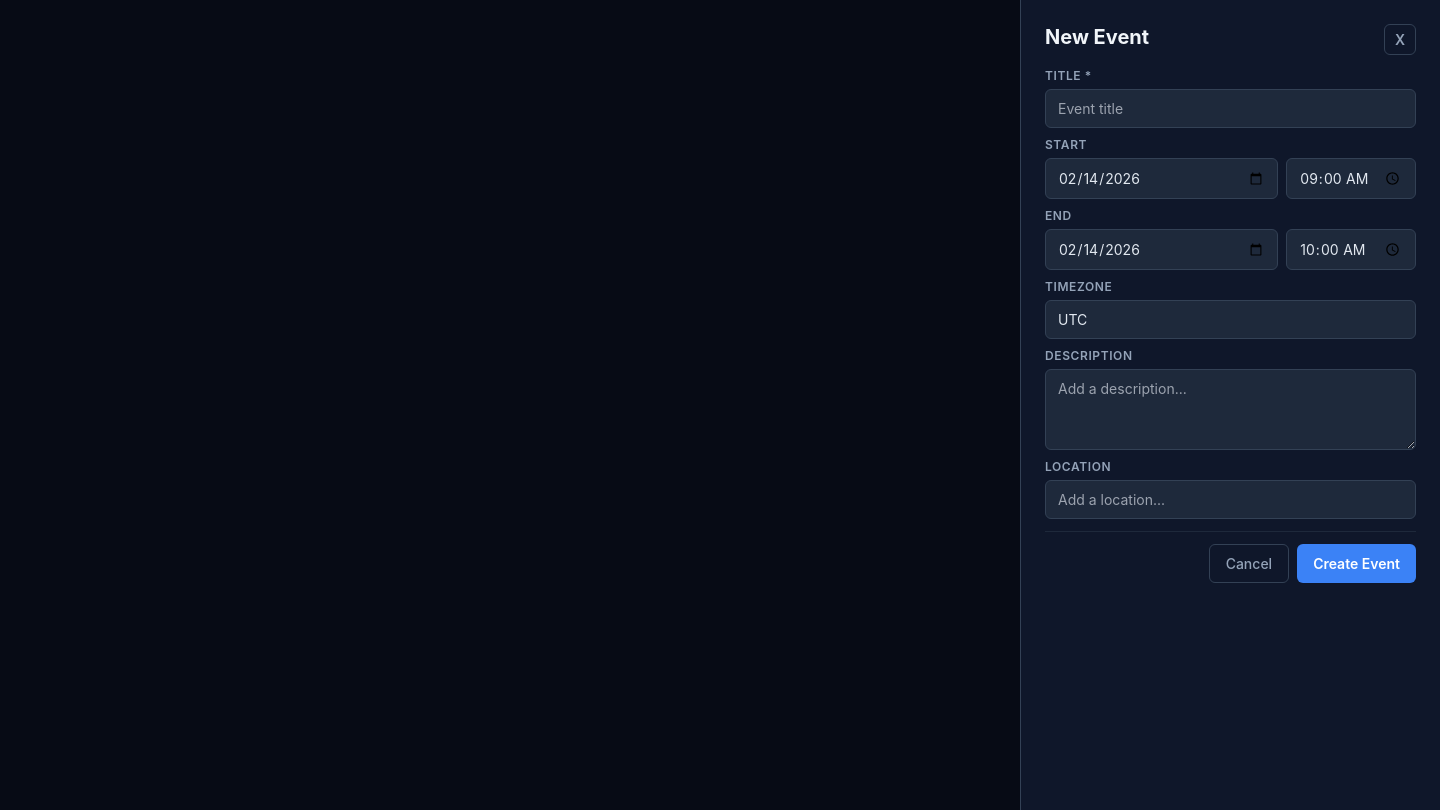
Test: EventCreateForm › validation › shows error when end time is before start time
This screenshot has width=1440, height=810.
In the field with test id "event-title-input": (1230, 108) [1045,89,1416,128], type "Test Event"
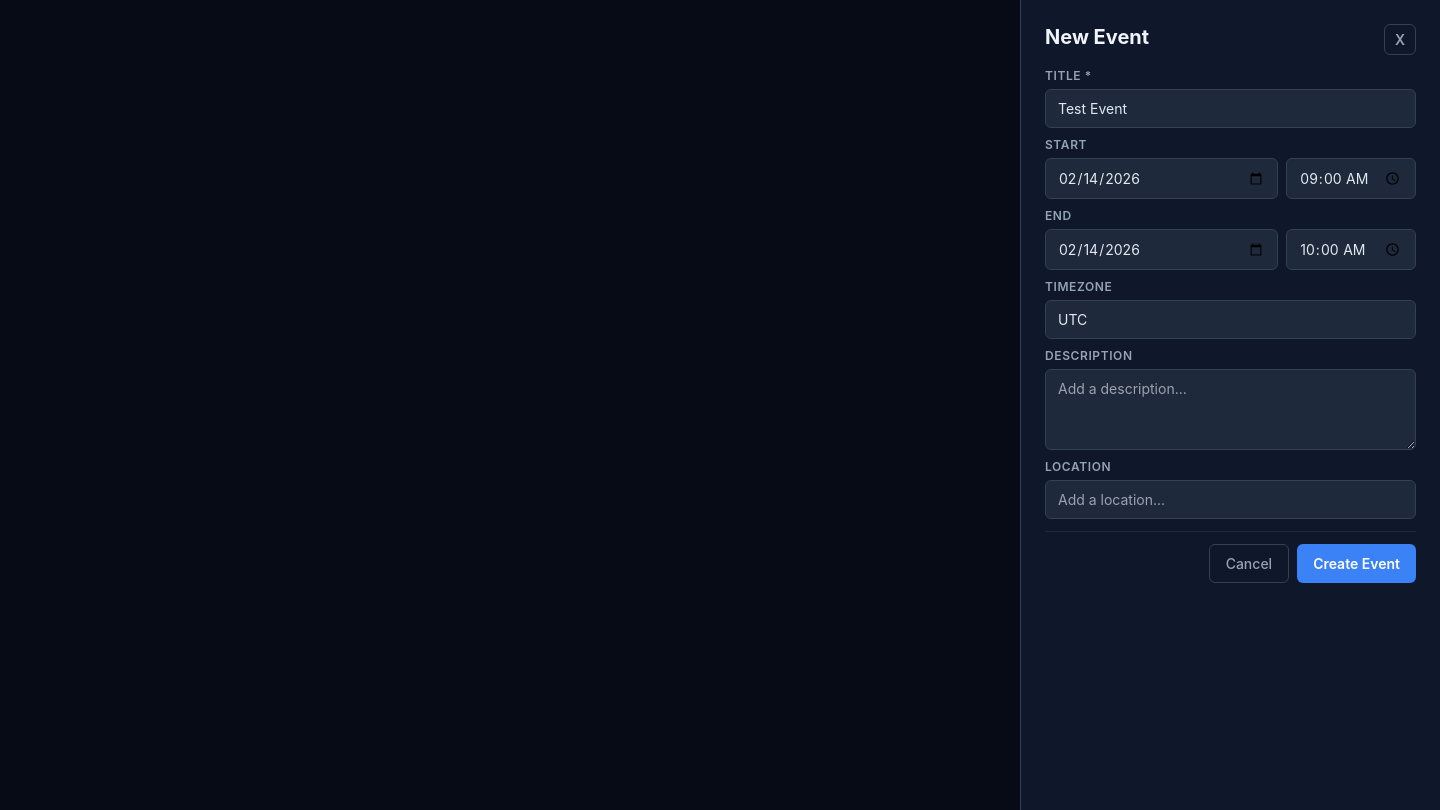
Replace the text in the time field with test id "event-end-time-input" with "08:00": (1351, 250) [1286,229,1416,270]
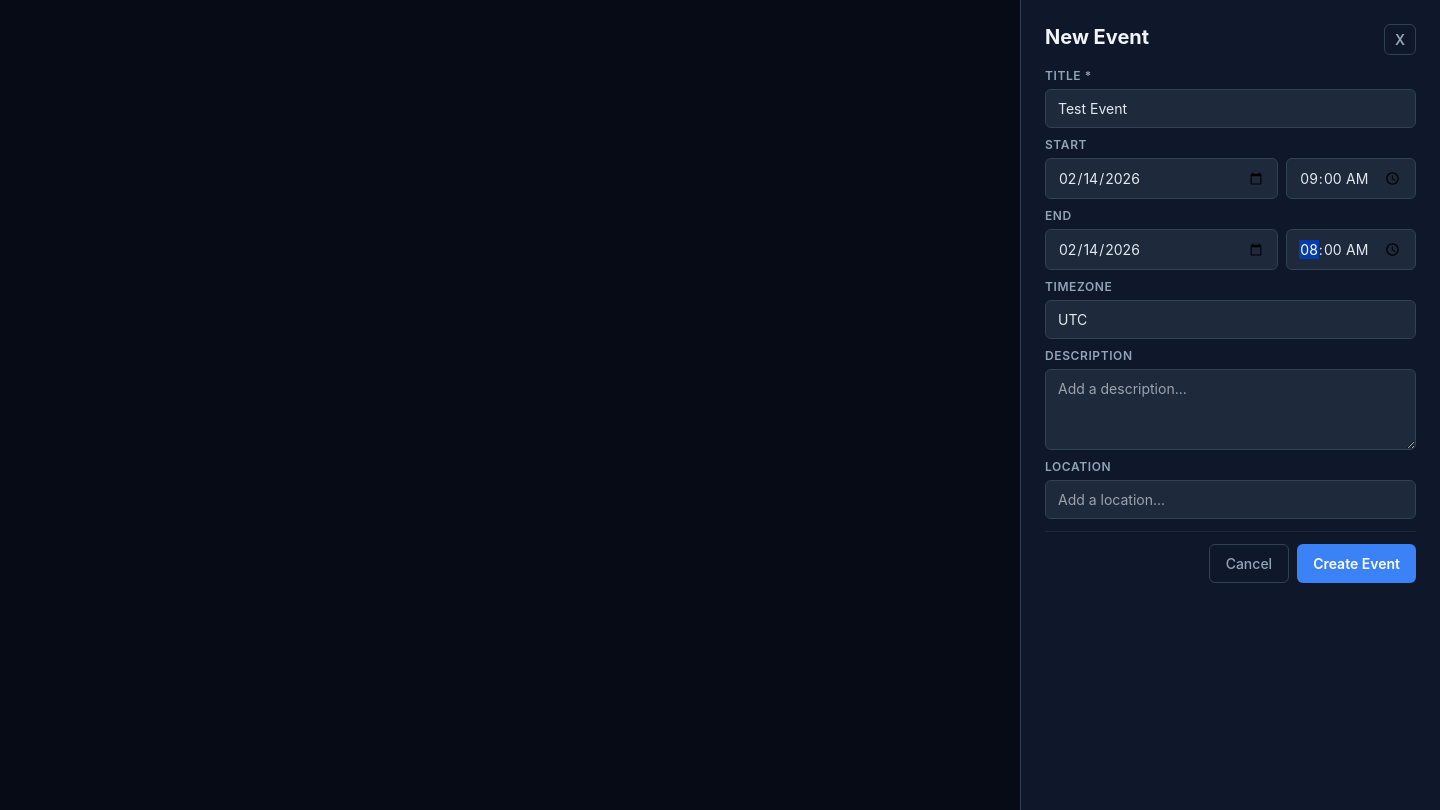
Click the button with test id "event-create-submit": (1357, 564) [1297,544,1416,583]
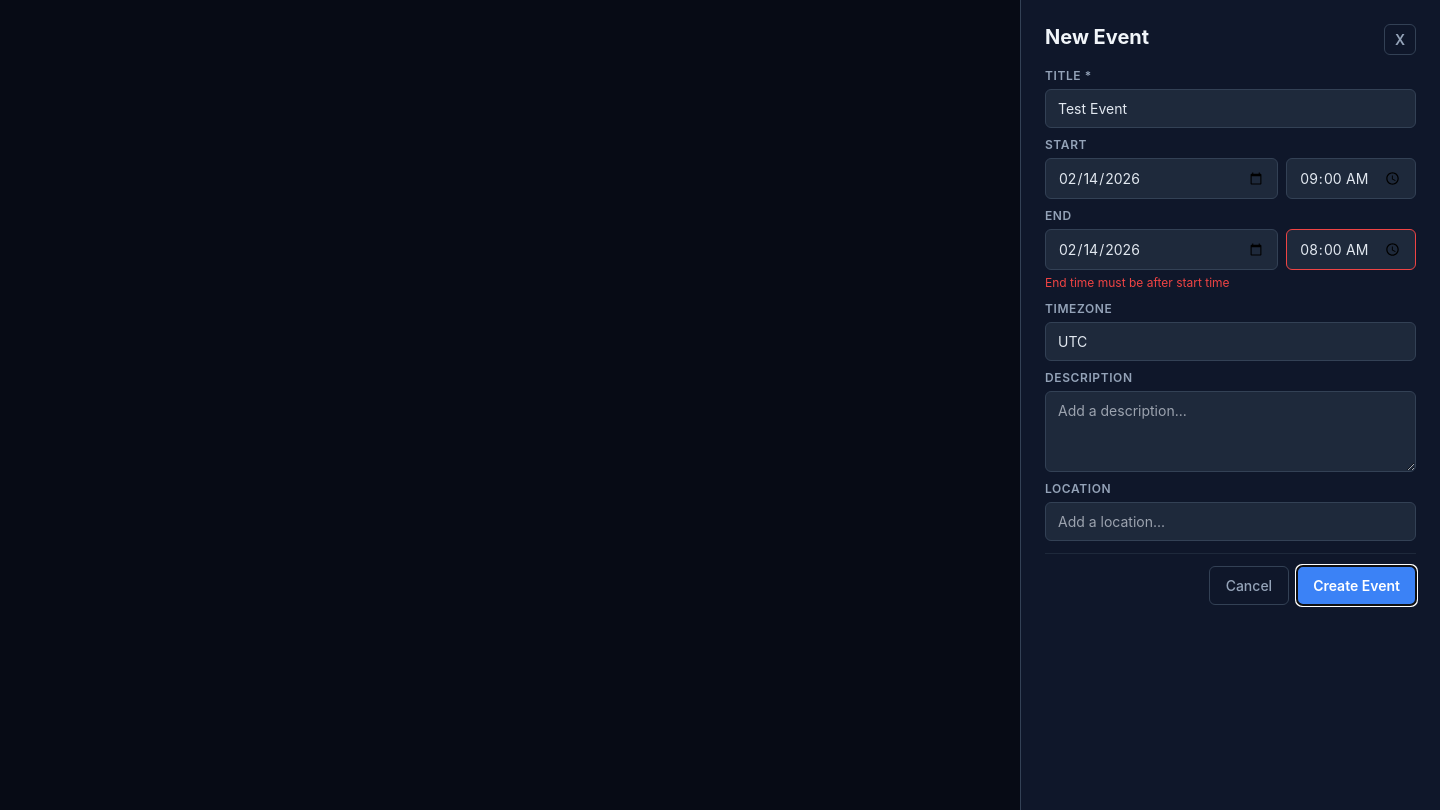
Now the text "End time must be after start time" is shown, box [1045,275,1230,290]
